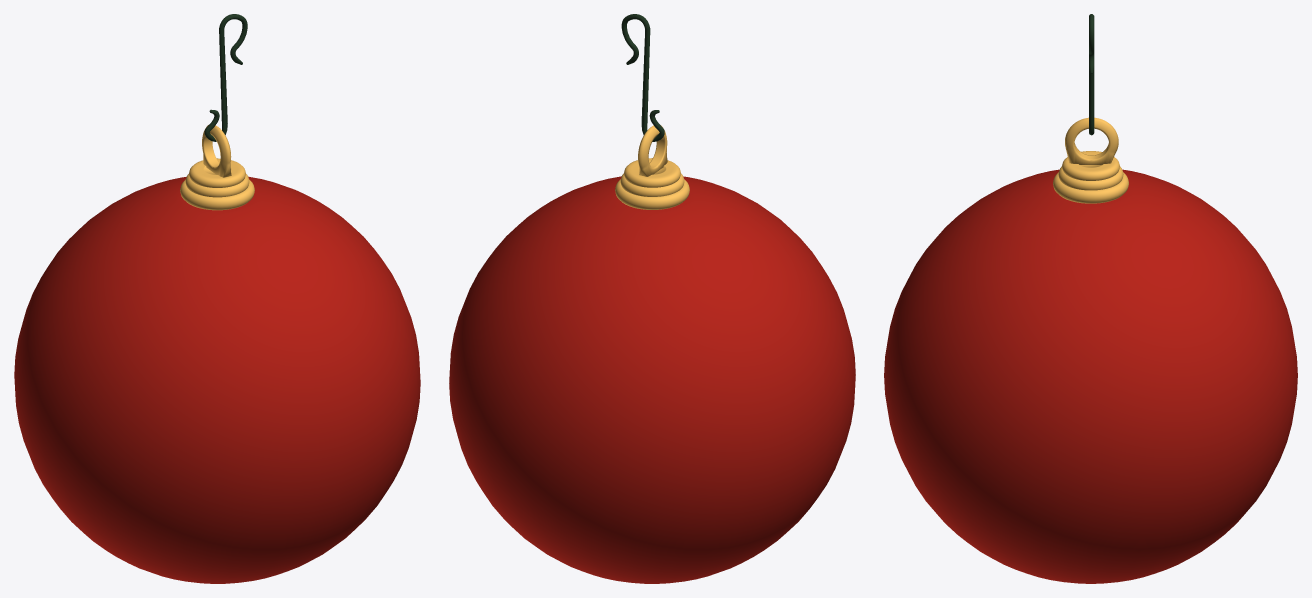
File: Pallina_natalizia_01.fbx
3 views of the same model, side by side, from view 1: azimuth 30°, elevation 25°; view 2: azimuth 150°, elevation 25°; view 3: azimuth 270°, elevation 25° (orthographic).
Visible parts, largest first — view 1: Pallina_natalizia_01; view 2: Pallina_natalizia_01; view 3: Pallina_natalizia_01.
Boxes of the visible parts, <box> form: Pallina_natalizia_01: <box>14,14,420,583</box>; Pallina_natalizia_01: <box>449,14,855,583</box>; Pallina_natalizia_01: <box>884,14,1297,583</box>.
Size of the model in its own units: 11.94 by 17.74 by 11.94.
